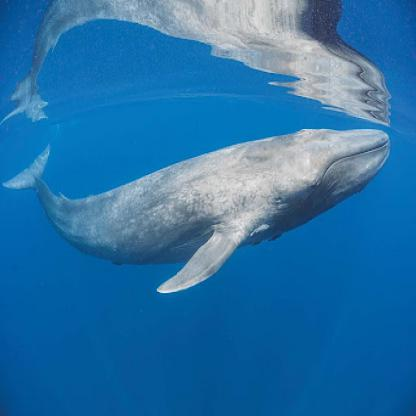blue_whale: (13, 122, 398, 312)
